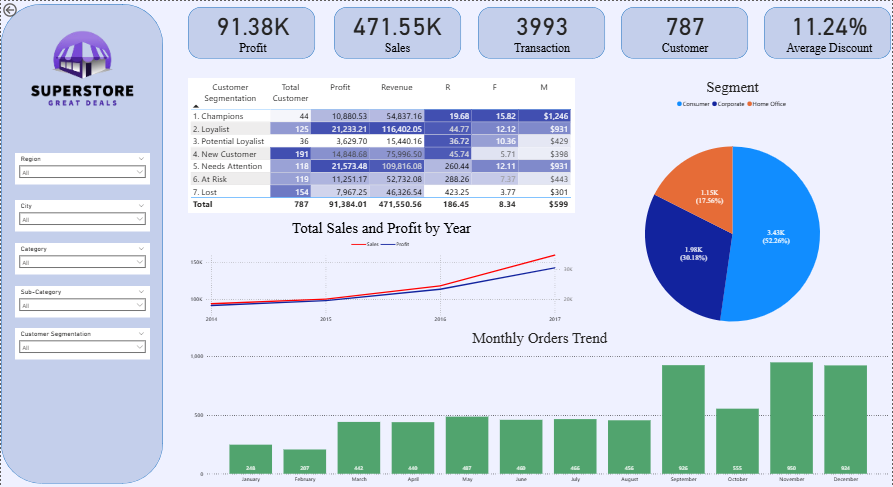

Layout of this report page (visuals, bound fields, positions):
{"tool":"powerbi","page":{"name":"Customer Segmentation","canvas":[1980,1080],"ordinal":2},"visuals":[{"type":"shape","box":[0,6,360,1066],"z":0},{"type":"slicer","fields":{"Values":["df_superstore.City"]},"box":[30,442.9,300,70],"z":1000},{"type":"slicer","fields":{"Values":["df_superstore.Category"]},"box":[30,538.6,300,70],"z":2000},{"type":"slicer","fields":{"Values":["df_superstore.Sub-Category"]},"box":[30,634,300,70],"z":3000},{"type":"slicer","fields":{"Values":["df_superstore.Region"]},"box":[30,338,300,70],"z":4000},{"type":"image","box":[0,0,360,302],"z":5000},{"type":"slicer","fields":{"Values":["rfm_table.segment"]},"box":[30,727.1,300,70],"z":6000},{"type":"pieChart","title":"Segment ","fields":{"Category":["df_superstore.Segment"],"Y":["CountNonNull(df_superstore.Order ID)"]},"box":[1275,170,700,627.5],"z":7000},{"type":"shape","box":[1695,12.5,282.5,115],"z":8000},{"type":"shape","box":[1377.5,12.5,282.5,115],"z":9000},{"type":"shape","box":[1060,12.5,282.5,115],"z":10000},{"type":"shape","box":[740,12.5,282.5,115],"z":11000},{"type":"shape","box":[415,12.5,282.5,115],"z":12000},{"type":"card","fields":{"Values":["Sum(df_superstore.Profit)"]},"box":[380,0,360,130],"z":13000},{"type":"card","fields":{"Values":["Sum(df_superstore.Sales)"]},"box":[702.5,0,357.5,130],"z":14000},{"type":"card","fields":{"Values":["Count(df_superstore.Order ID)"]},"box":[1022.5,0,360,130],"z":15000},{"type":"card","fields":{"Values":["Count(df_superstore.Customer ID)"]},"box":[1340,0,360,130],"z":16000},{"type":"card","fields":{"Values":["Avg(df_superstore.Discount)"]},"box":[1705,0,272.5,130],"z":17000},{"type":"actionButton","box":[0,0,100,40],"z":18000},{"type":"clusteredColumnChart","title":"Monthly Orders Trend","fields":{"Category":["df_superstore.Order Date.Variation.Date Hierarchy.Month"],"Y":["CountNonNull(df_superstore.Order ID)"]},"box":[415,728.3,1563.3,351.7],"z":19000},{"type":"tableEx","fields":{"Values":["rfm_table.segment","rfm_table.df_superstore_Customer ID","Sum(df_superstore.Profit)","Sum(df_superstore.Sales)","Avg(rfm_table.recency)","Avg(rfm_table.frequency)","Avg(rfm_table.monetary)"]},"box":[415,170,860,300],"z":20000},{"type":"lineChart","title":"Total Sales and Profit by Year","fields":{"Category":["df_superstore.Order Date.Variation.Date Hierarchy.Year"],"Y":["Sum(df_superstore.Sales)"],"Y2":["Sum(df_superstore.Profit)"]},"box":[415,485,860,241.7],"z":21000}]}

Visuals, with their boxes in screenshot pixels (x1, y1, x2, y2), scaled from the page's 1980x1080 canvas onto the 893x487 screenshot:
shape: [0,3,162,483]
slicer - df_superstore.City: [14,200,149,231]
slicer - df_superstore.Category: [14,243,149,274]
slicer - df_superstore.Sub-Category: [14,286,149,317]
slicer - df_superstore.Region: [14,152,149,184]
image: [0,0,162,136]
slicer - rfm_table.segment: [14,328,149,359]
"Segment " pieChart: [575,77,891,360]
shape: [764,6,892,57]
shape: [621,6,749,57]
shape: [478,6,605,57]
shape: [334,6,461,57]
shape: [187,6,315,57]
card - Sum(df_superstore.Profit): [171,0,334,59]
card - Sum(df_superstore.Sales): [317,0,478,59]
card - Count(df_superstore.Order ID): [461,0,624,59]
card - Count(df_superstore.Customer ID): [604,0,767,59]
card - Avg(df_superstore.Discount): [769,0,892,59]
actionButton: [0,0,45,18]
"Monthly Orders Trend" clusteredColumnChart: [187,328,892,486]
tableEx - rfm_table.segment x rfm_table.df_superstore_Customer ID: [187,77,575,212]
"Total Sales and Profit by Year" lineChart: [187,219,575,328]
